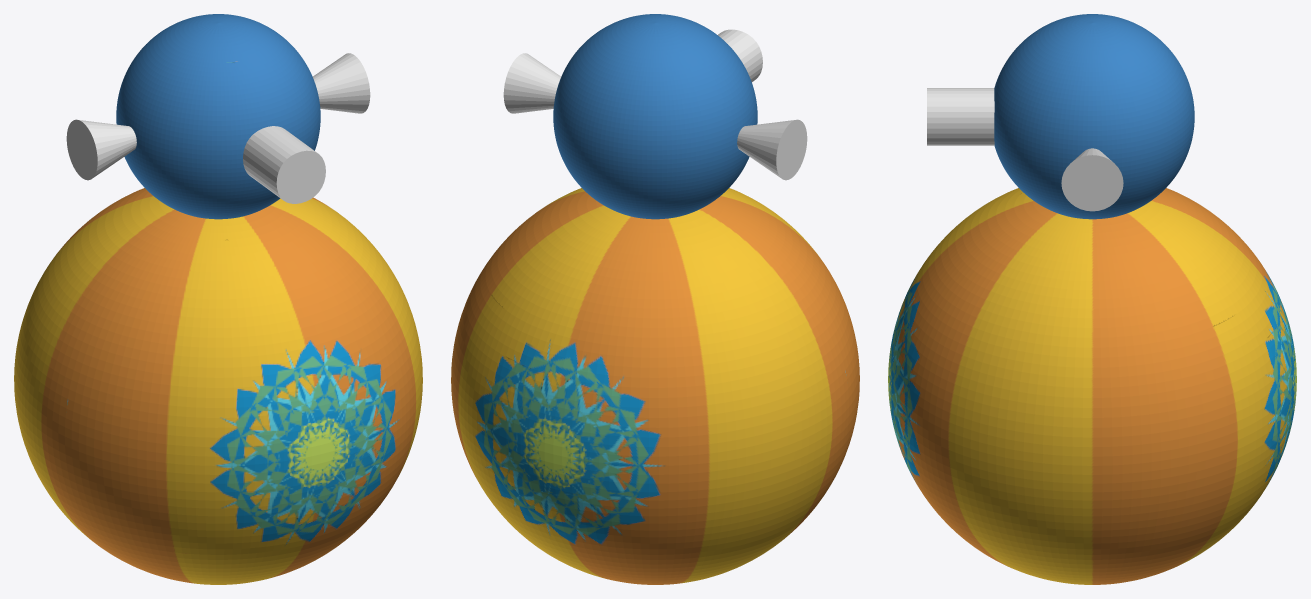
The model's file is BOD0_BMC6_BCC5_BPT2_FRC27_HEA0_HMC8_HCC3_HPT0_ELT3_ERT3_ELL2_ERL1_AP0_AAL0_AAR1_BEK1.fbx.
The picture shows the model from 3 angles, left to right: view 1: azimuth 30°, elevation 25°; view 2: azimuth 150°, elevation 25°; view 3: azimuth 270°, elevation 25°; orthographic projection.
Visible parts, largest first — view 1: Body, Beak, Ear, Ear.001; view 2: Body, Ear, Ear.001, Beak; view 3: Body, Beak, Ear.001.
Boxes of the visible parts, x1,y1,x2,y2 form: Body: (14, 14, 422, 584); Beak: (243, 126, 325, 203); Ear: (66, 119, 136, 180); Ear.001: (313, 53, 370, 113); Body: (451, 14, 859, 584); Ear: (737, 119, 807, 180); Ear.001: (503, 53, 560, 113); Beak: (718, 29, 762, 81); Body: (888, 14, 1296, 584); Beak: (927, 88, 994, 145); Ear.001: (1061, 148, 1123, 211).
Size of the model in its own units: 49.36 by 72.41 by 49.36.
Materials: 1 (1 with a texture image).
